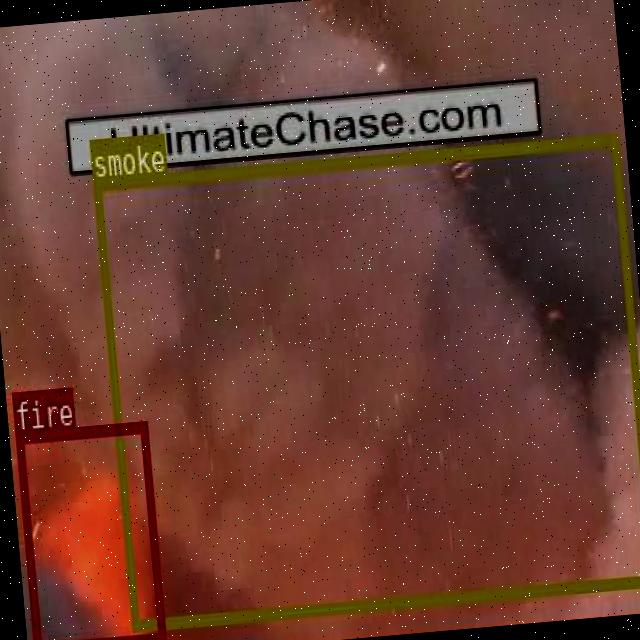fire: (15, 419, 164, 640)
smoke: (91, 131, 640, 629)
